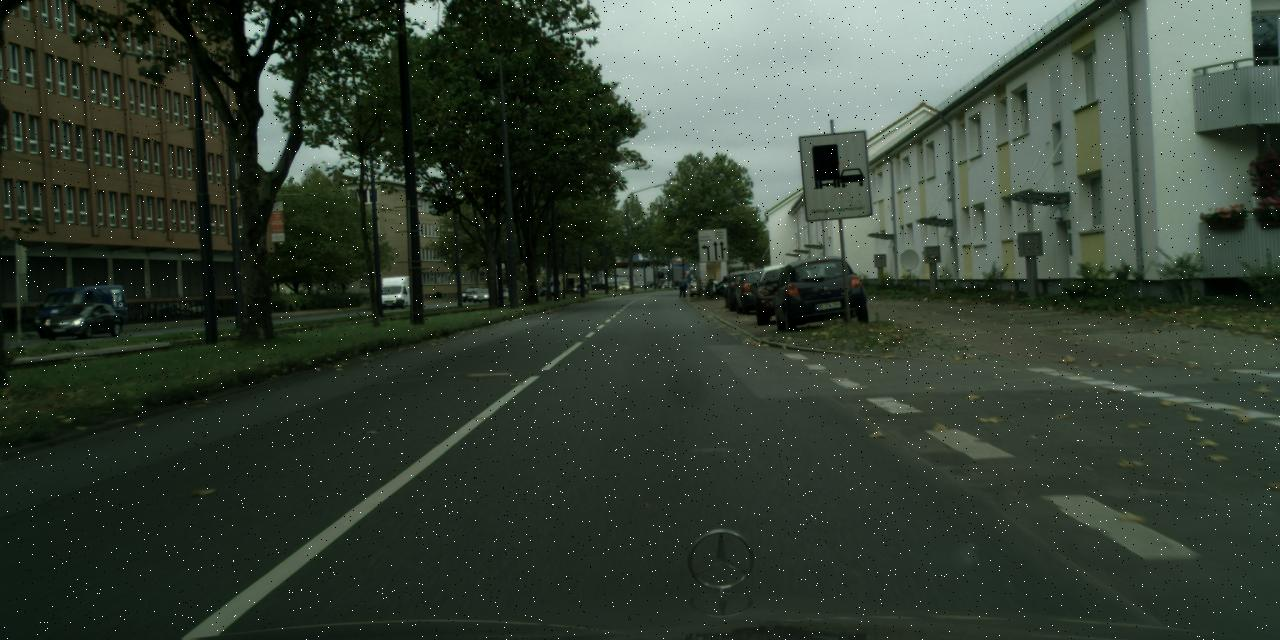ped: (678, 276, 686, 298)
